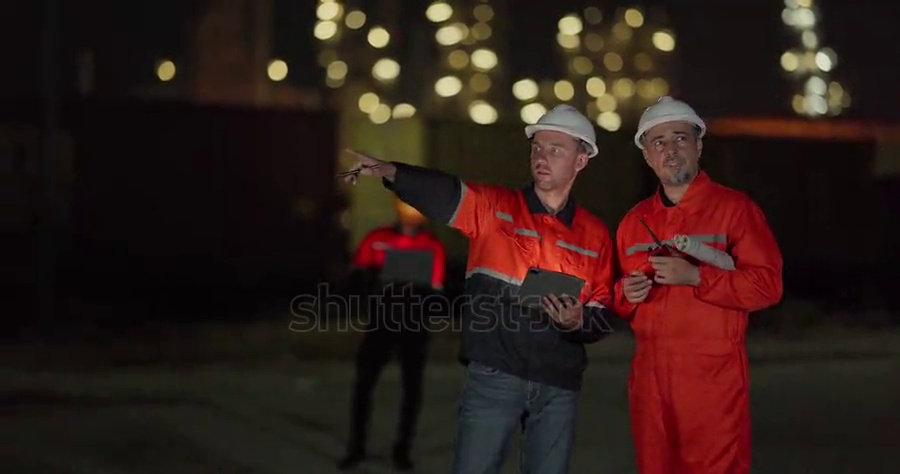helmet: (525, 104, 598, 157), (634, 95, 707, 147), (396, 200, 428, 227)
person: (343, 103, 618, 467), (610, 96, 786, 474), (335, 195, 448, 474)
